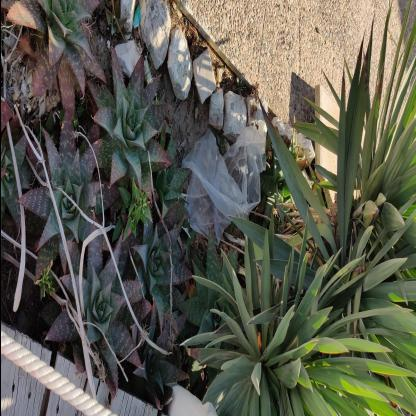plastik: (181, 122, 267, 250)
